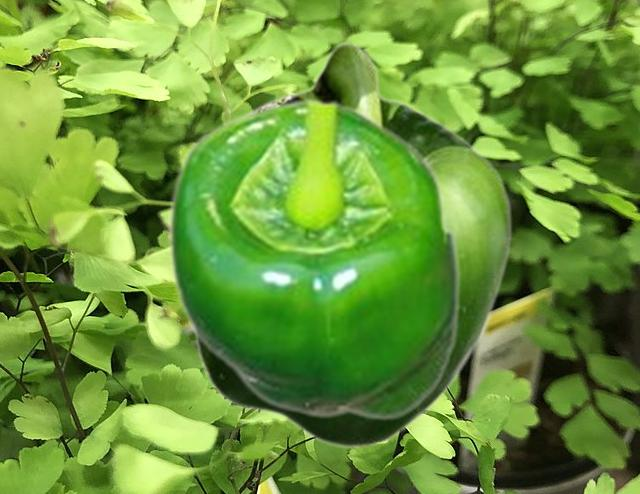bell_pepper: (191, 41, 512, 449), (165, 96, 461, 420)
